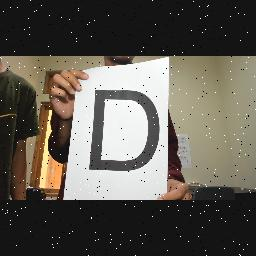d: (88, 86, 164, 180)
